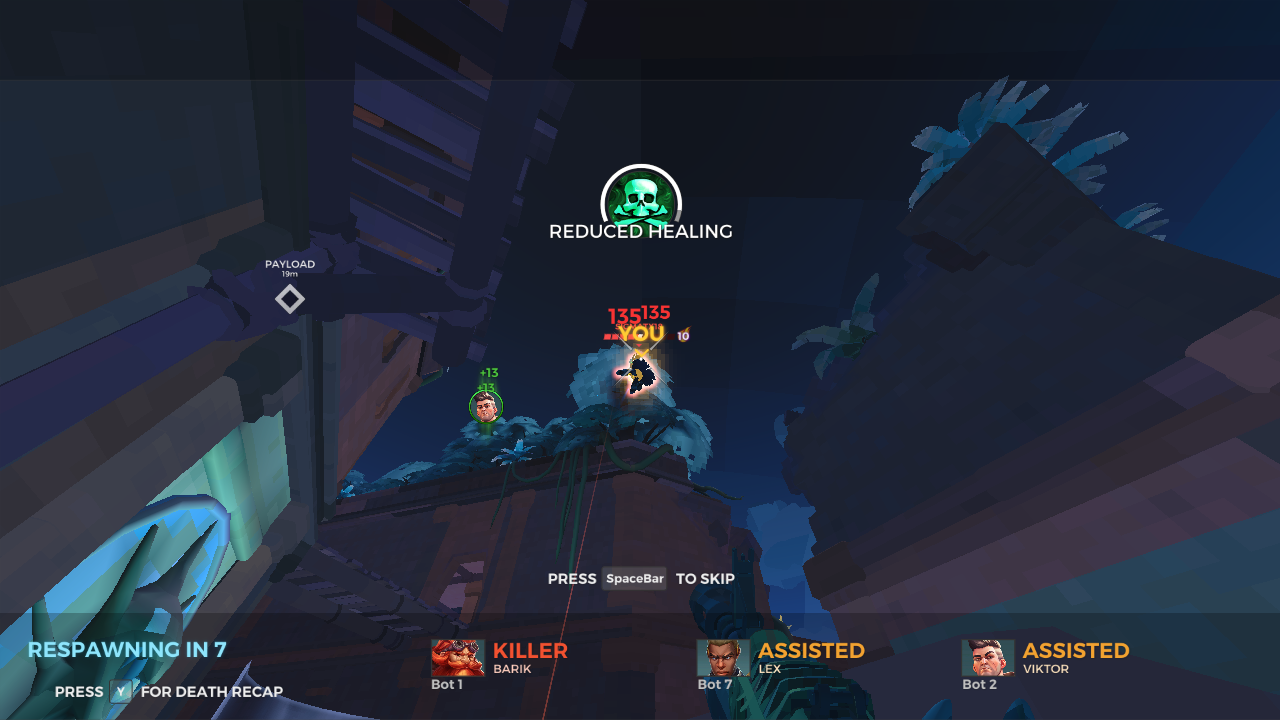model: (614, 348, 662, 403)
